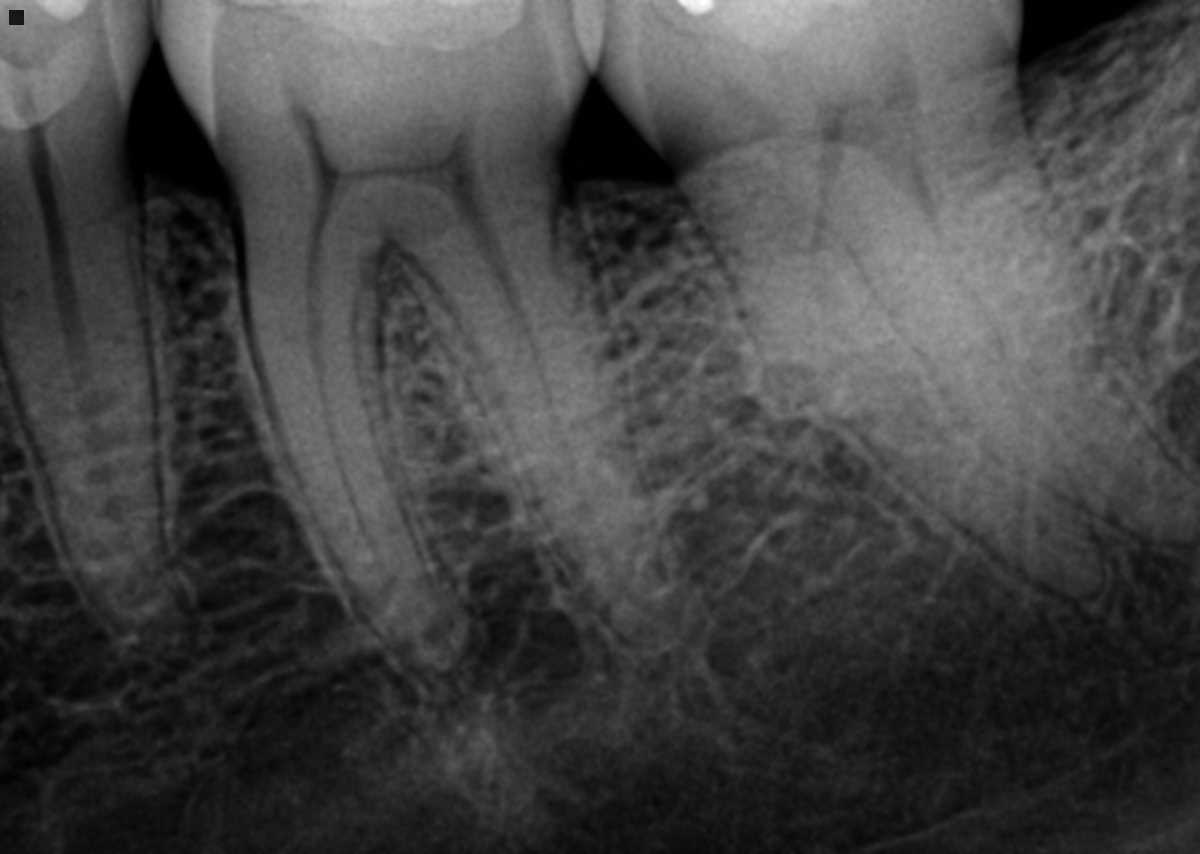Distal Canal: (460, 211, 615, 585)
Distal Root: (863, 82, 1200, 551), (401, 181, 694, 656)
Main Canal: (39, 225, 184, 615)
Main Root: (0, 193, 199, 652)
Mesial Canal: (304, 236, 417, 616)
Mesial Root: (688, 167, 1115, 601), (235, 227, 475, 667)
